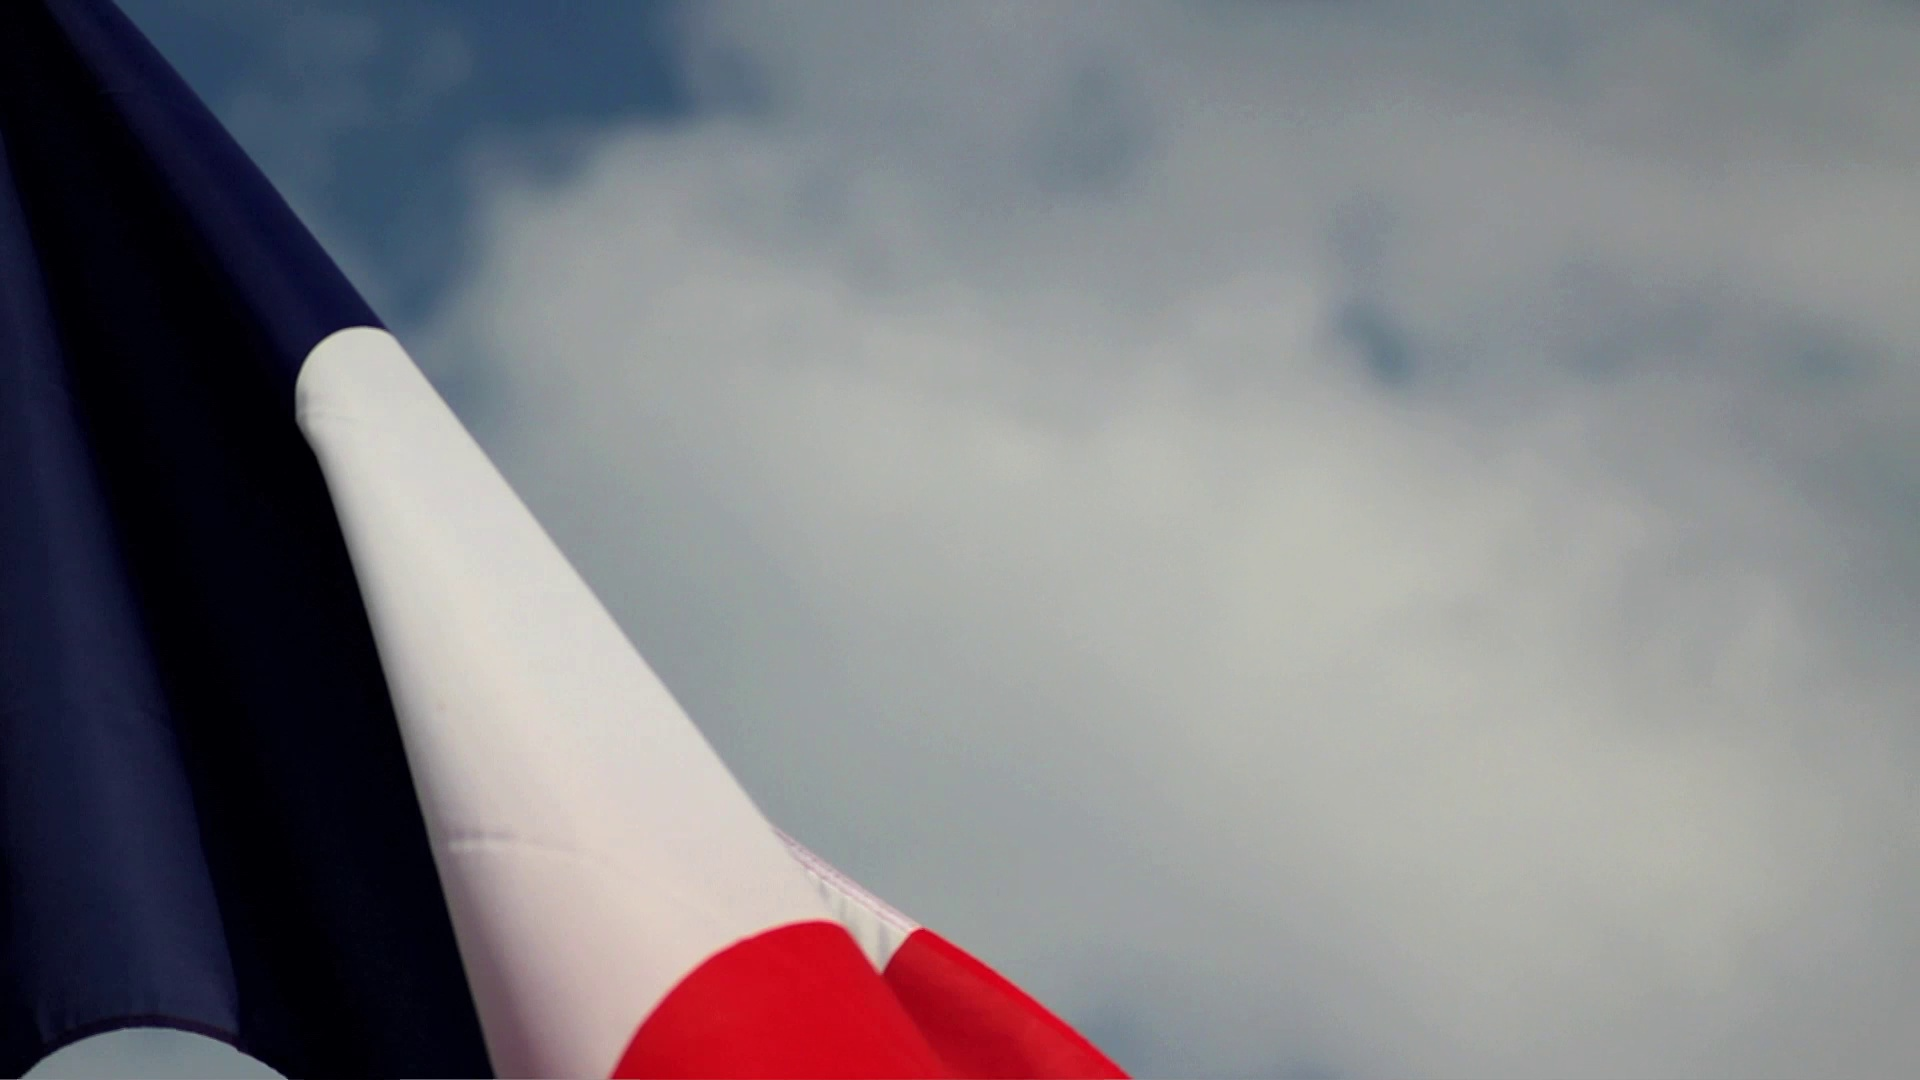French Flag: (1, 1, 1135, 1076)
